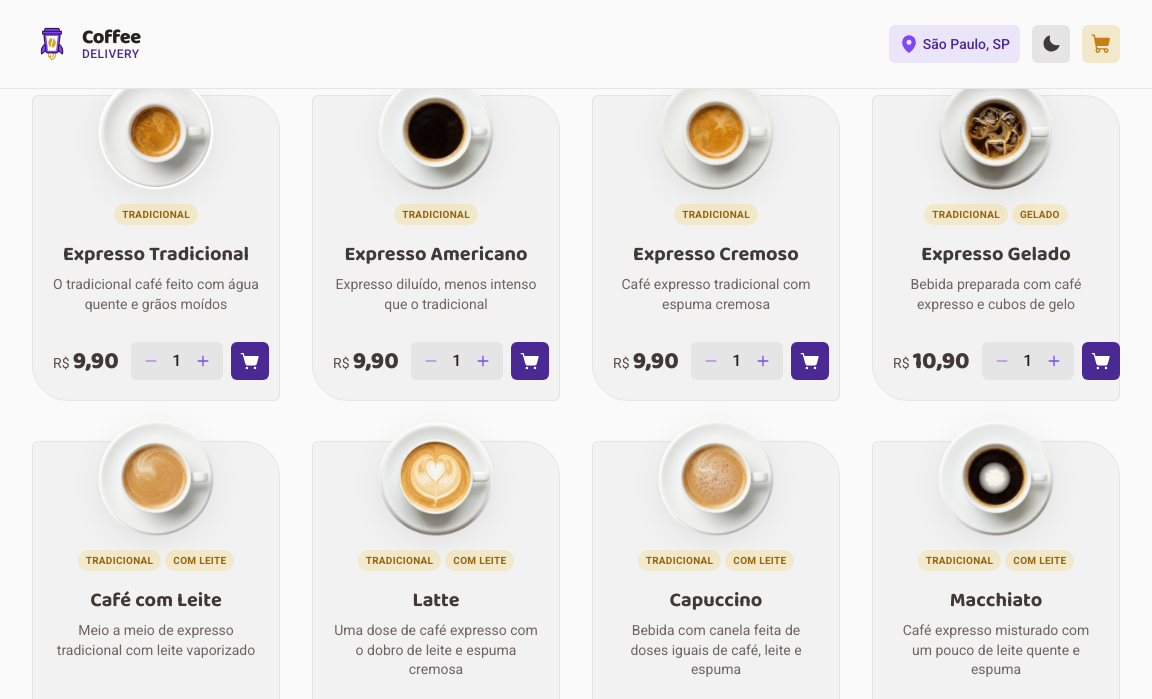
Test: Fluxos completos da SPA Coffee Delivery › permite incrementar, decrementar e remover itens individualmente no Checkout (RF-05 e RF-10)
(page scrolled)
Adiciona Expresso Tradicional (9,90) e Latte (11,90)
Click the button named "Adicionar Expresso Tradicional ao carrinho": (250, 361) [231, 342, 269, 380]
(page scrolled)
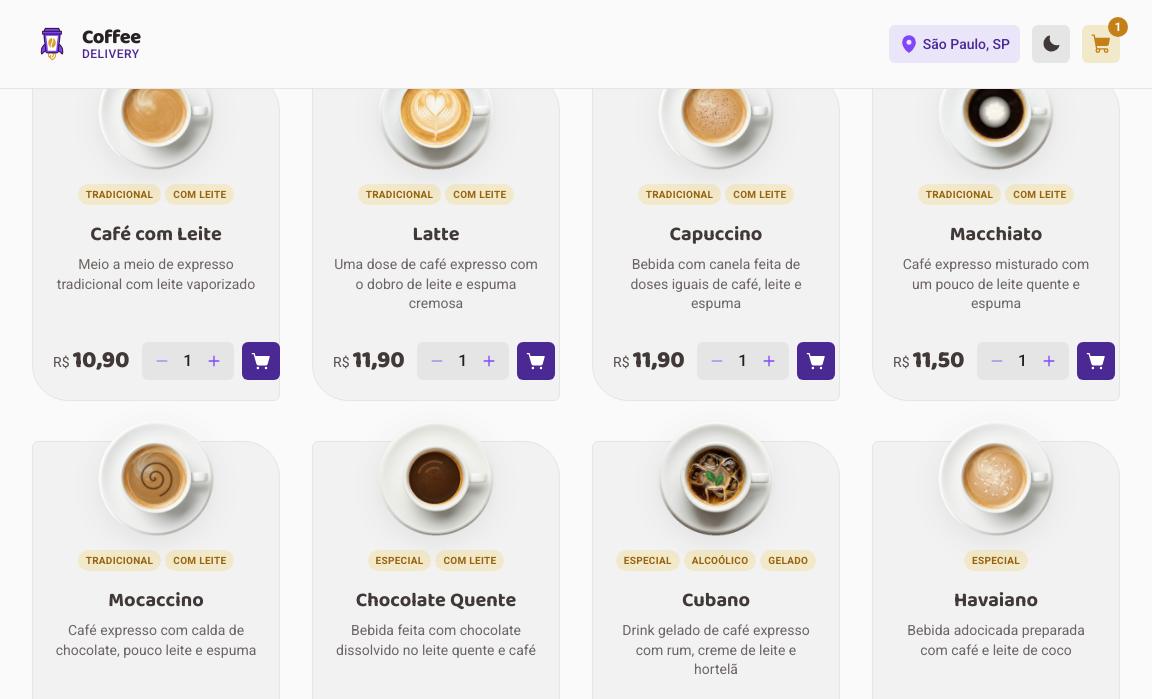
Click the button named "Adicionar Latte ao carrinho": (536, 361) [517, 342, 555, 380]
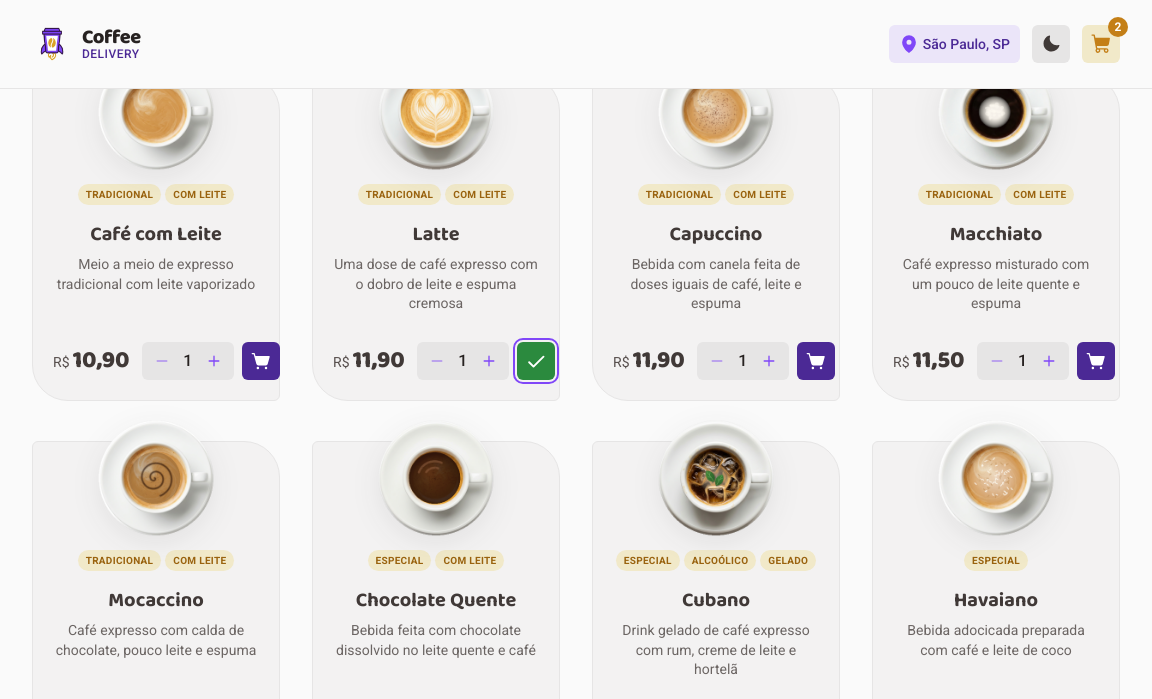
Click the link named "Ir para o carrinho de compras com 2 itens": (1101, 44) [1082, 25, 1120, 63]
(page scrolled)
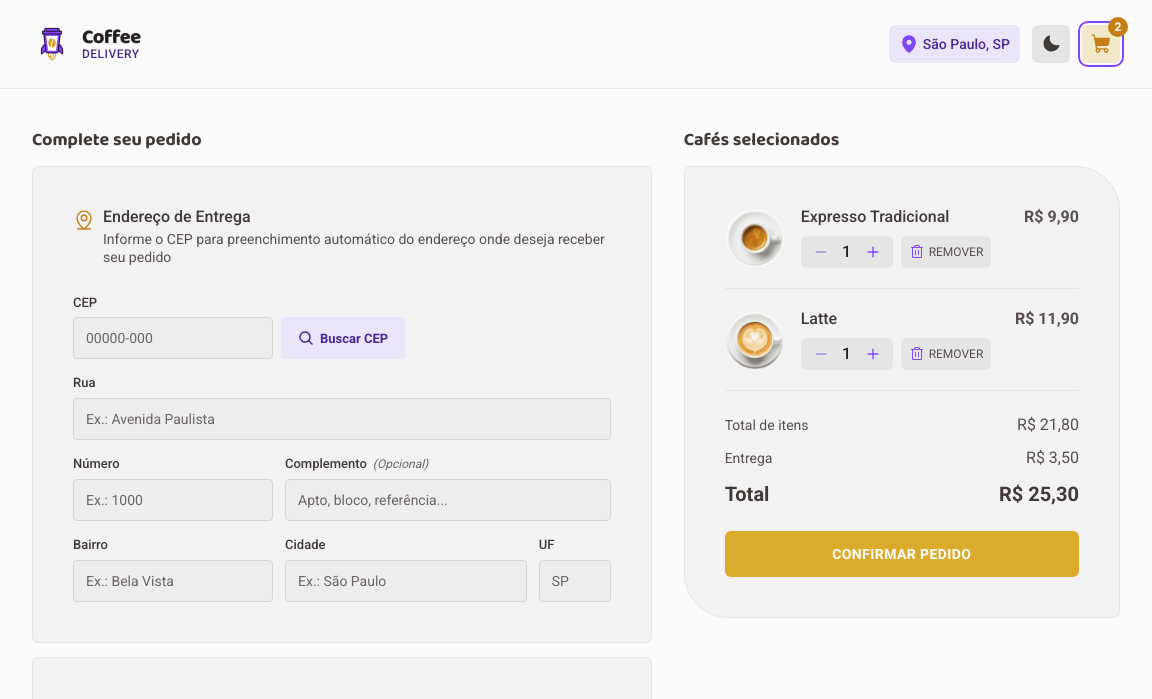
Check: the text with test id "checkout-subtotal" reads "R$ 21,80", box [1017, 415, 1079, 434]
Check: the text with test id "checkout-total" reads "R$ 25,30", box [999, 482, 1079, 506]
Click the button named "Aumentar quantidade de Expresso Tradicional": (873, 252) [861, 240, 885, 264]
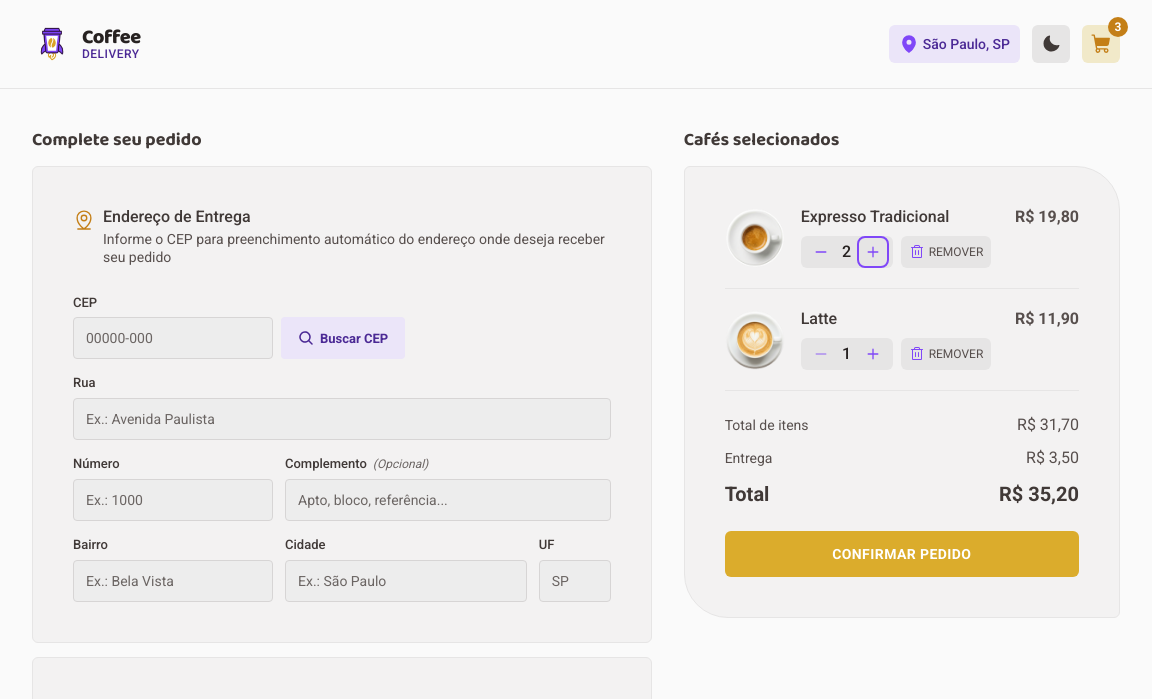
Check: the text with test id "cart-badge-count" reads "3", box [1114, 20, 1121, 34]
Check: the text with test id "checkout-subtotal" reads "R$ 31,70", box [1017, 415, 1079, 434]
Check: the text with test id "checkout-total" reads "R$ 35,20", box [999, 482, 1079, 506]
Decrementa de volta para 1 unidade
Click the button named "Diminuir quantidade de Expresso Tradicional": (821, 252) [809, 240, 833, 264]
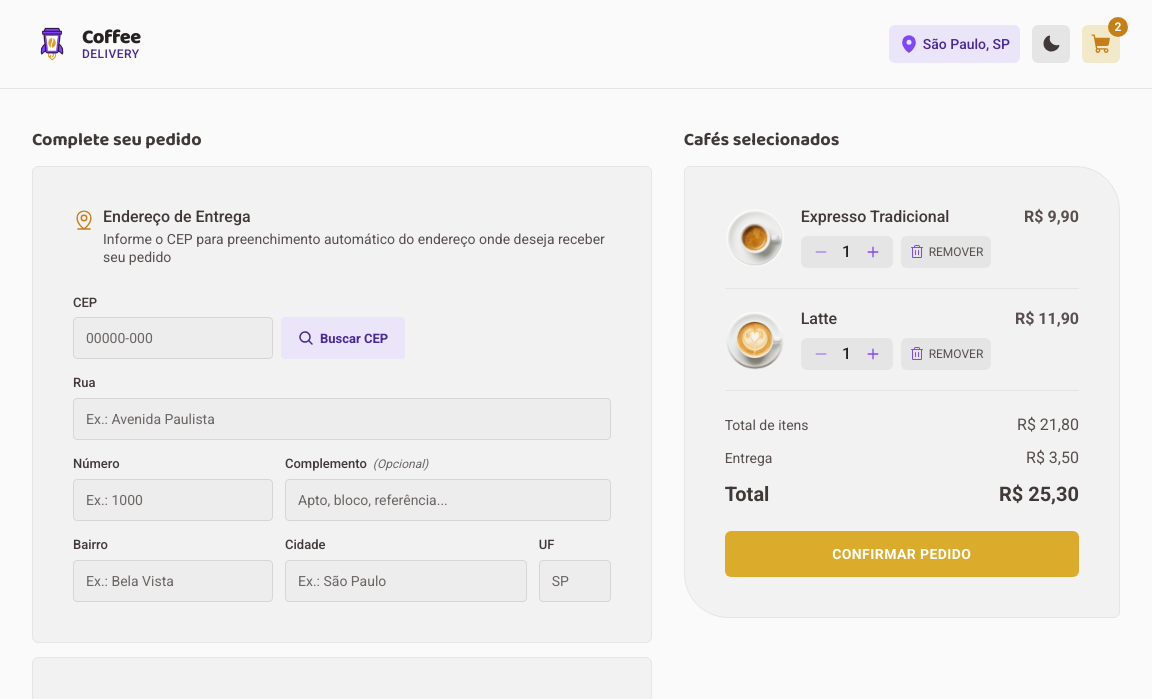
Check: the text with test id "checkout-subtotal" reads "R$ 21,80", box [1017, 415, 1079, 434]
Click the button with aria-label "Remover Latte do carrinho": (946, 354) [901, 338, 991, 370]
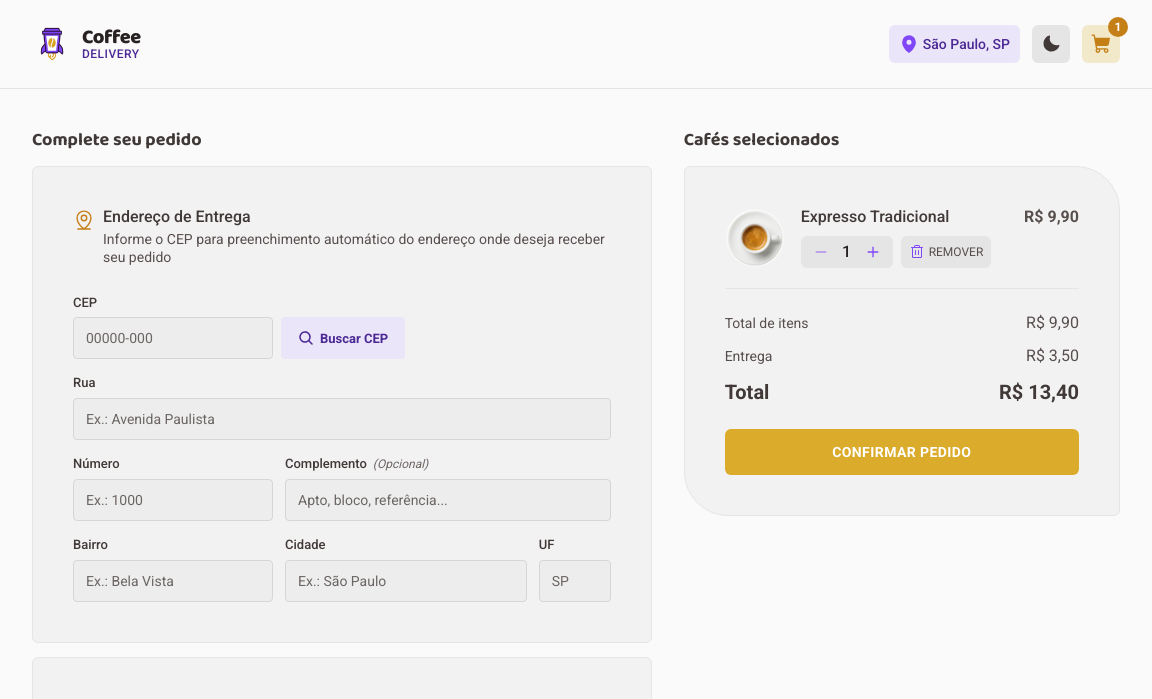
Check: the text with test id "cart-badge-count" reads "1", box [1114, 20, 1121, 34]
Check: the text with test id "checkout-subtotal" reads "R$ 9,90", box [1026, 313, 1079, 332]
Check: the text with test id "checkout-total" reads "R$ 13,40", box [999, 380, 1079, 404]
